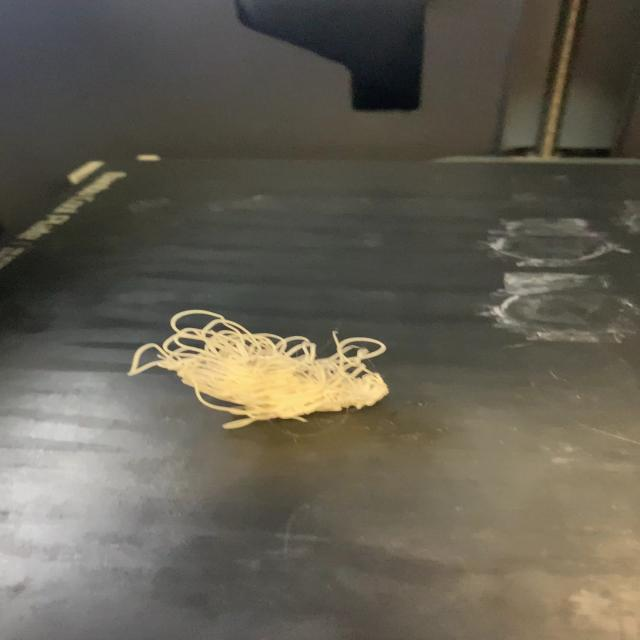spaghetti: (125, 307, 393, 432)
